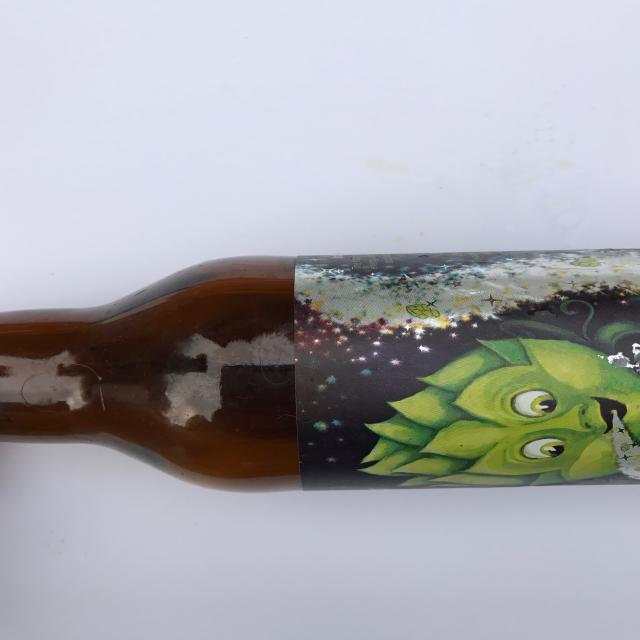glass: (0, 249, 640, 492)
